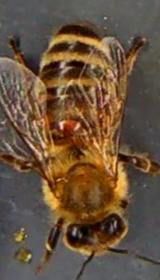varroa_mite: (53, 112, 76, 137)
